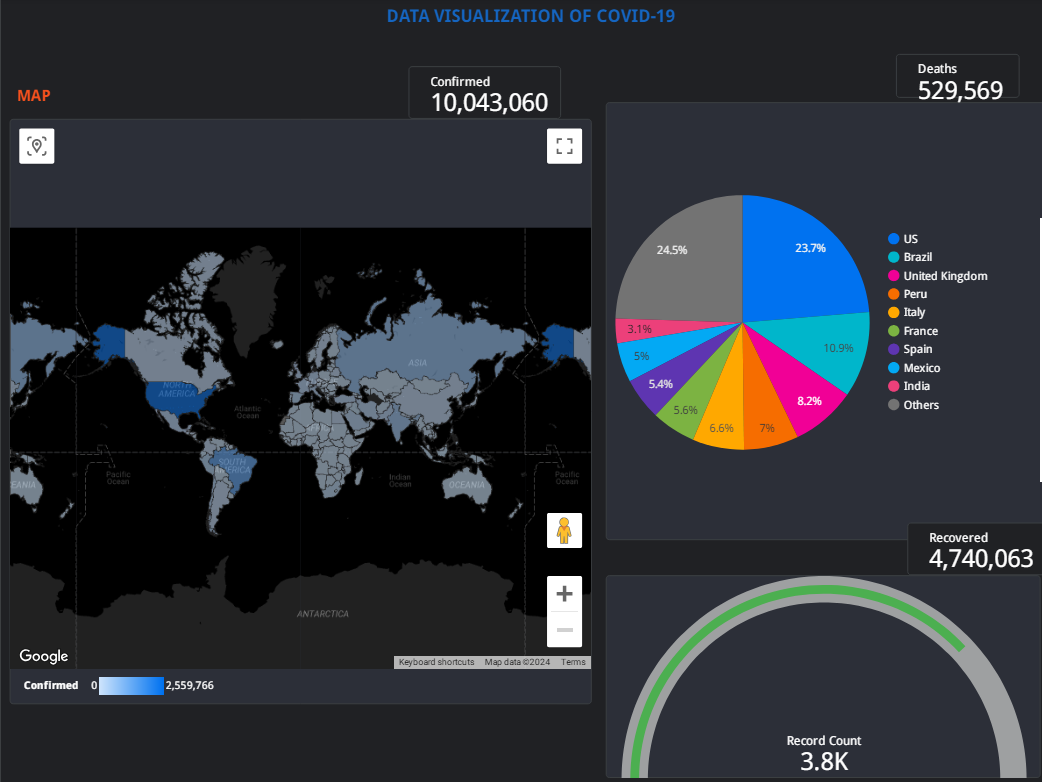

This screenshot's page, from the dashboard's own definition file:
{"tool":"tableau","page":{"name":"Dashboard 1","canvas":[1000,1000],"units":"permille","ordinal":0},"visuals":[{"type":"text","box":[4.8,9.3,633.7,81.3]},{"type":"worksheet","title":"Sheet 5","mark":"Automatic","box":[638.4,9.3,356.8,581.9]},{"type":"worksheet","title":"Sheet 1","mark":"Multipolygon","box":[4.8,90.6,633.7,813]},{"type":"text","box":[638.4,591.2,356.8,58.1]},{"type":"legend","title":"Sheet 1","param":"[federated.0ashuvy04huwo01ah5nrt11wqwcz].[sum:Recovered:qk]","box":[4.8,903.6,633.7,87.1]}]}

Visuals, with their boxes on the dashboard's canvas, which has no fixed pixel size, in thousandths of its width and height (x1, y1, x2, y2). These are canvas units, not pixel positions in the 1042x782 screenshot, which may show the page scaled, cropped or inside an application window:
text: <bbox>5, 9, 638, 91</bbox>
"Sheet 5" worksheet: <bbox>638, 9, 995, 591</bbox>
"Sheet 1" worksheet (Multipolygon marks): <bbox>5, 91, 638, 904</bbox>
text: <bbox>638, 591, 995, 649</bbox>
"Sheet 1" legend: <bbox>5, 904, 638, 991</bbox>
